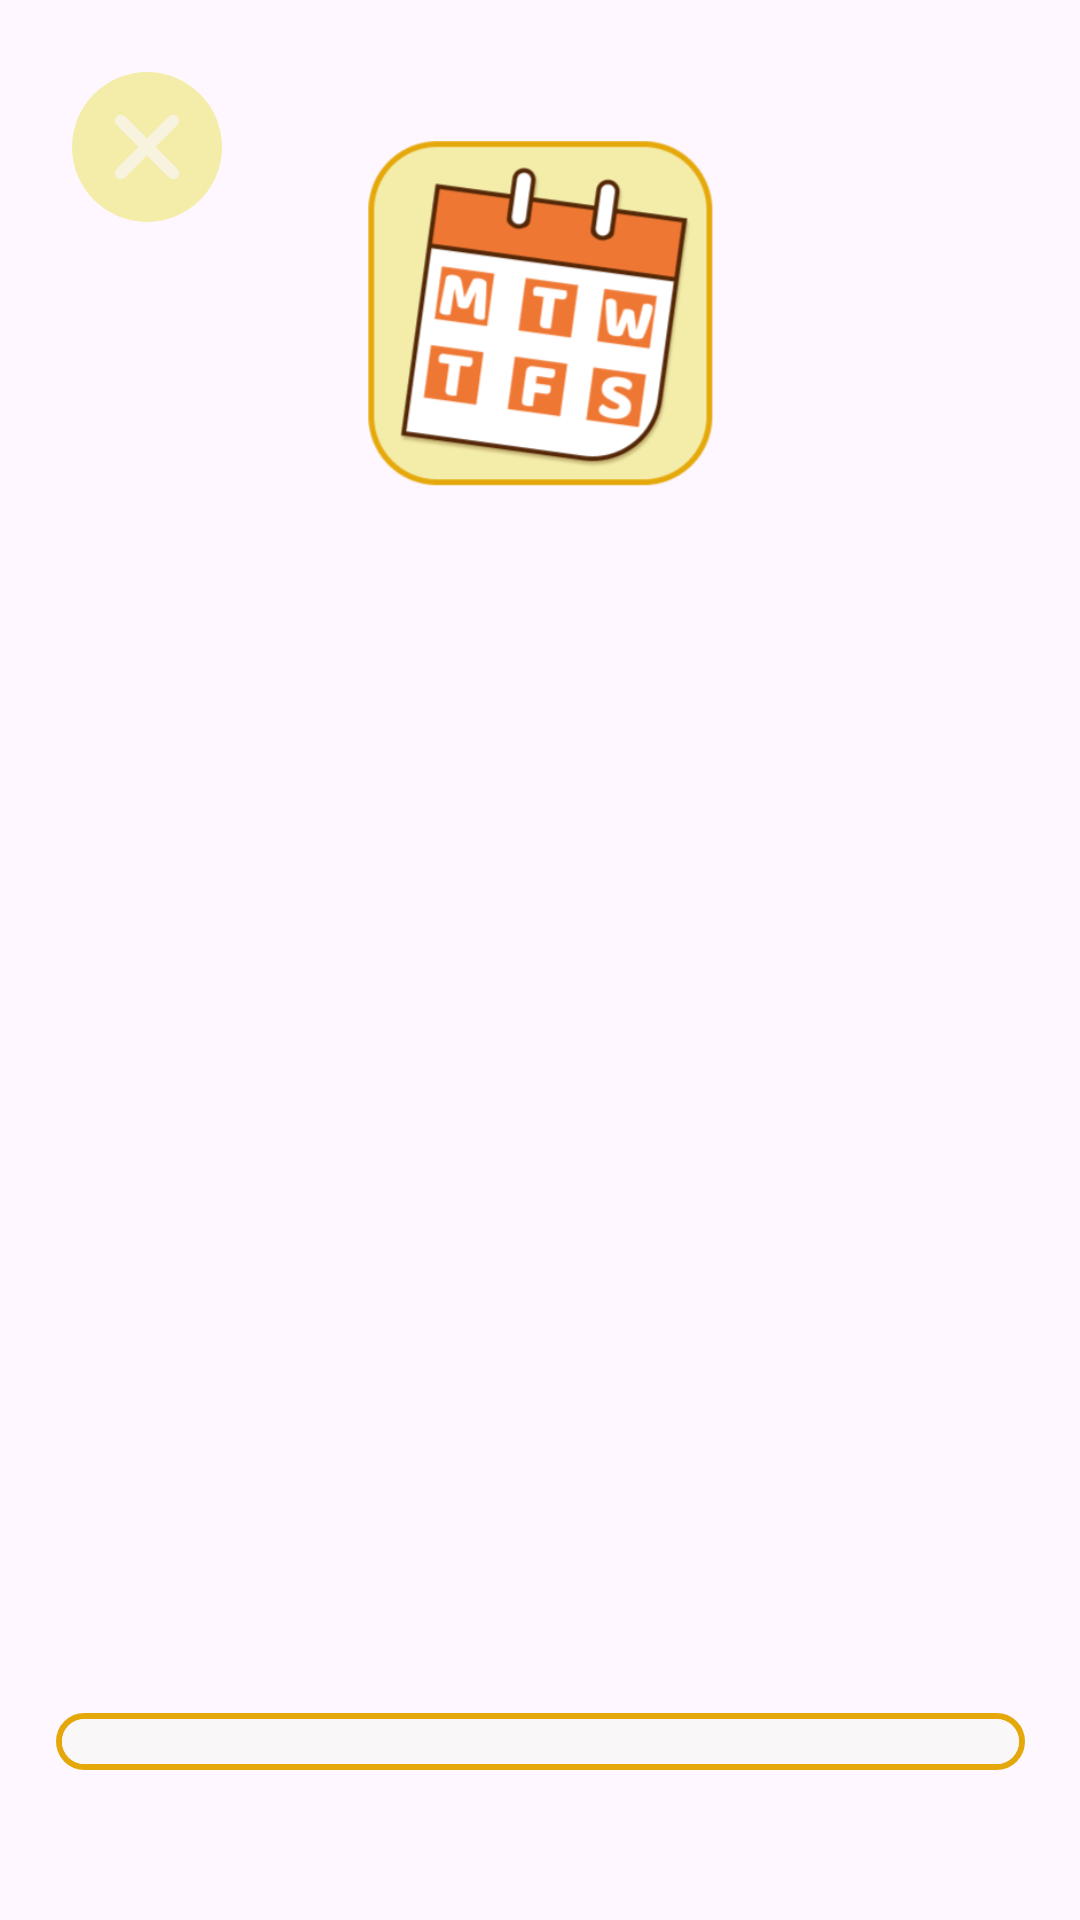

Locate icon controls on the screen. Image size 1080 × 1920, boxes as (x1, y1, x2, y2).
timegameexit: (72, 72, 222, 222)
timegameicon: (368, 141, 713, 486)
